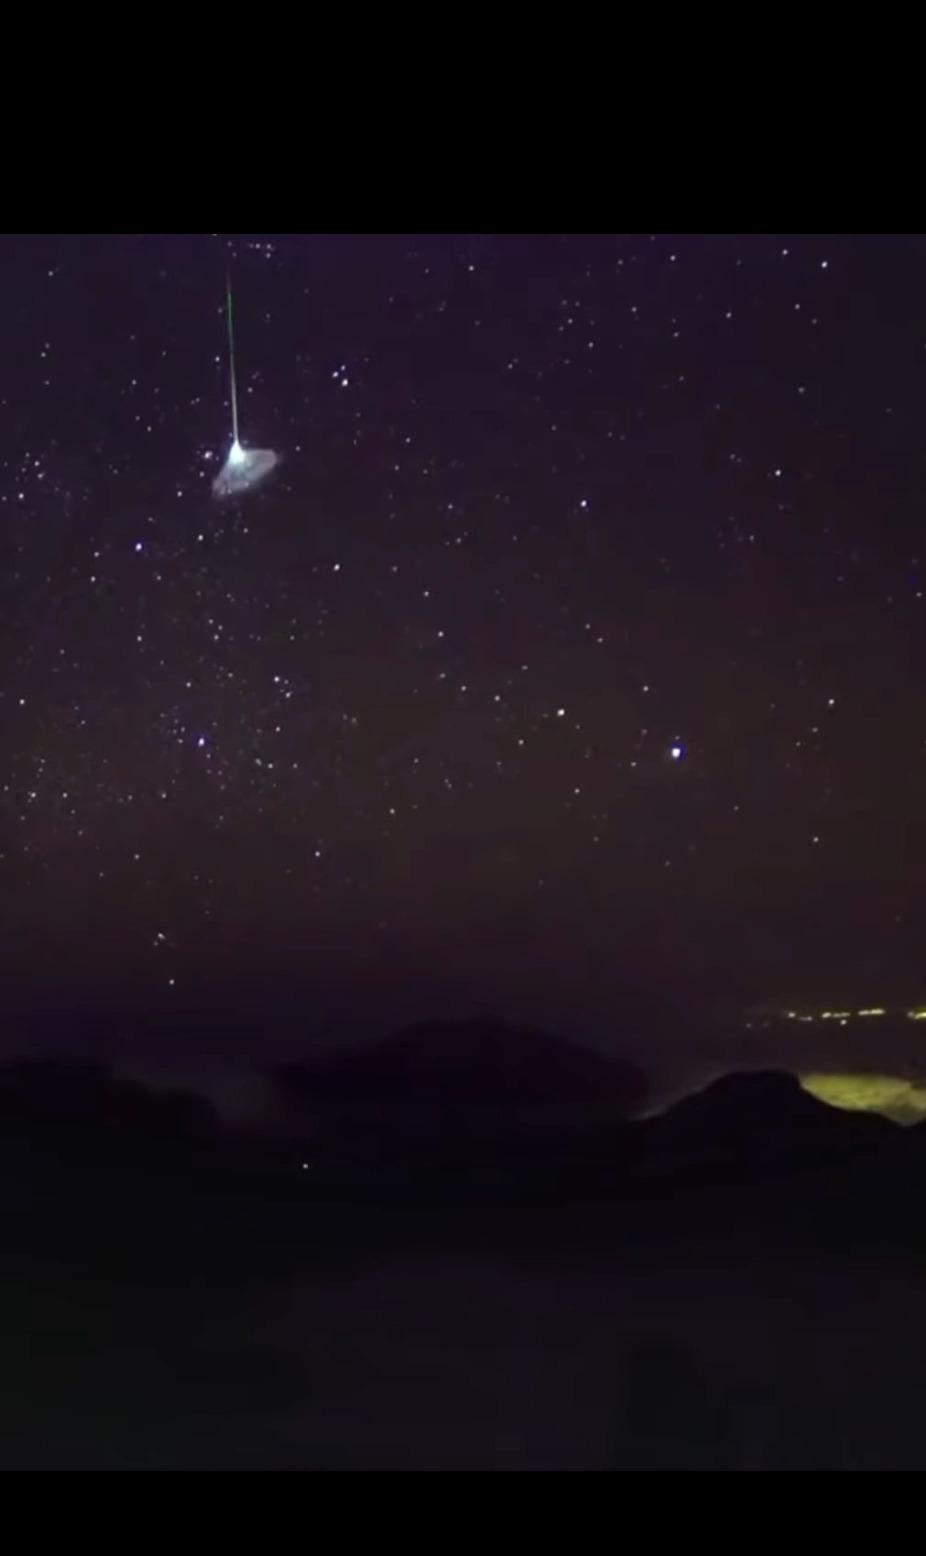meteorite: (208, 248, 258, 509)
